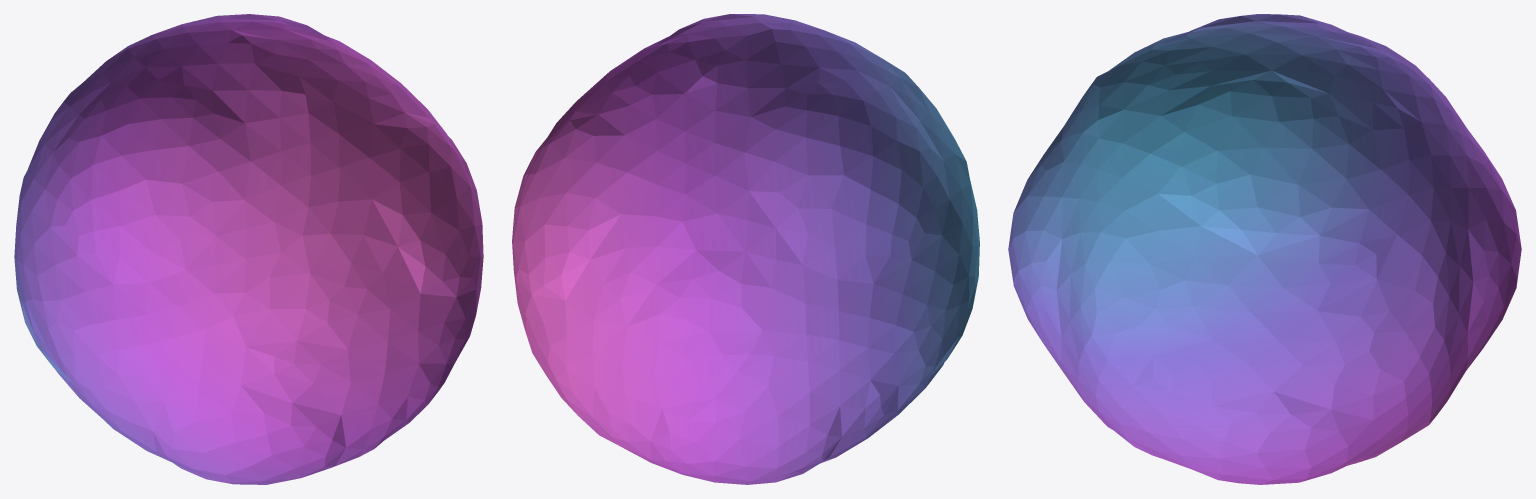
The model's file is aneurysm.glb.
3 views of the same model, side by side, from view 1: azimuth 30°, elevation 25°; view 2: azimuth 150°, elevation 25°; view 3: azimuth 270°, elevation 25° (orthographic).
Visible parts, largest first — view 1: world; view 2: world; view 3: world.
Boxes of the visible parts, x1=… form: world: x1=14, y1=14, x2=483, y2=484; world: x1=512, y1=14, x2=979, y2=484; world: x1=1008, y1=14, x2=1521, y2=484.
Bounding box in the file's own units: 6.15 × 6.16 × 6.54.
